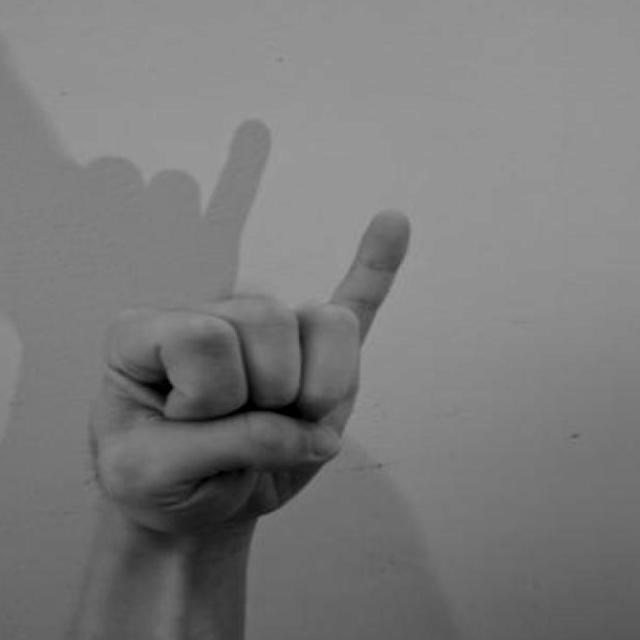I: (71, 200, 418, 562)
